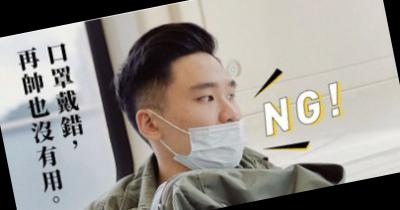mask_weared_incorrect: (159, 73, 253, 179)
